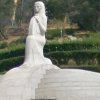Statue: (14, 3, 64, 72)
